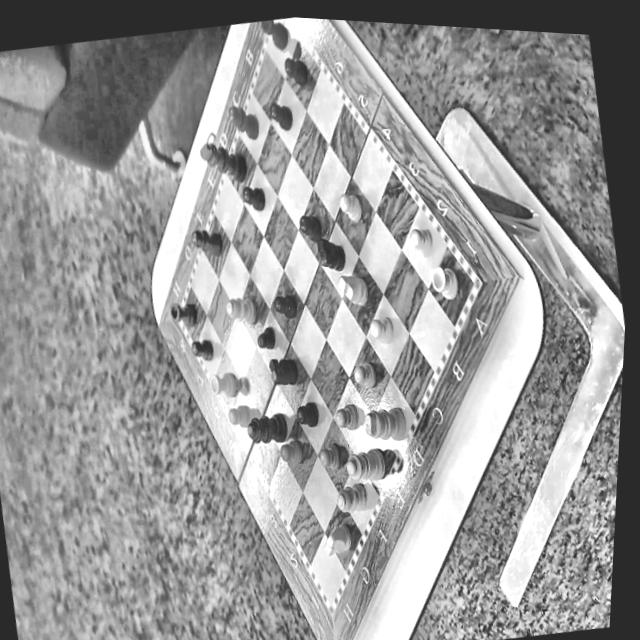chessboard: (181, 18, 473, 603)
